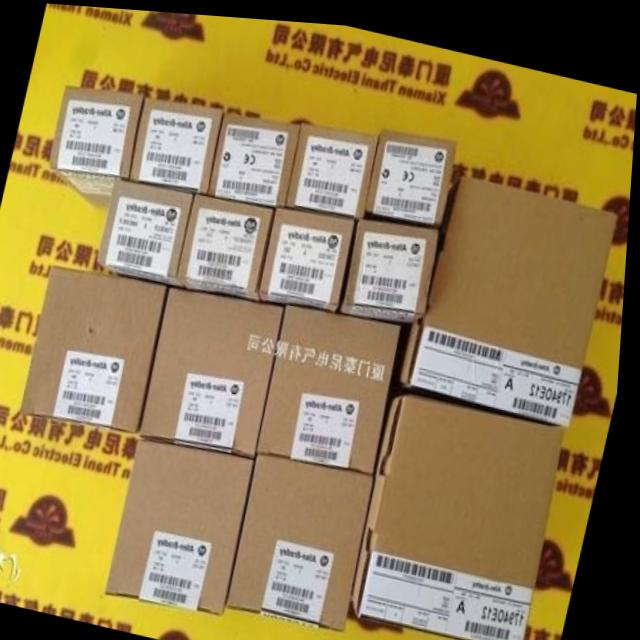box: (394, 170, 620, 419), (358, 383, 571, 640), (112, 433, 261, 611), (233, 448, 379, 627), (144, 283, 288, 455), (26, 264, 172, 432), (262, 299, 405, 467), (50, 85, 147, 208), (341, 211, 444, 320), (179, 189, 279, 297), (99, 177, 197, 285), (261, 201, 360, 307), (130, 94, 226, 192), (367, 124, 458, 222), (288, 118, 382, 212), (211, 109, 304, 204)
